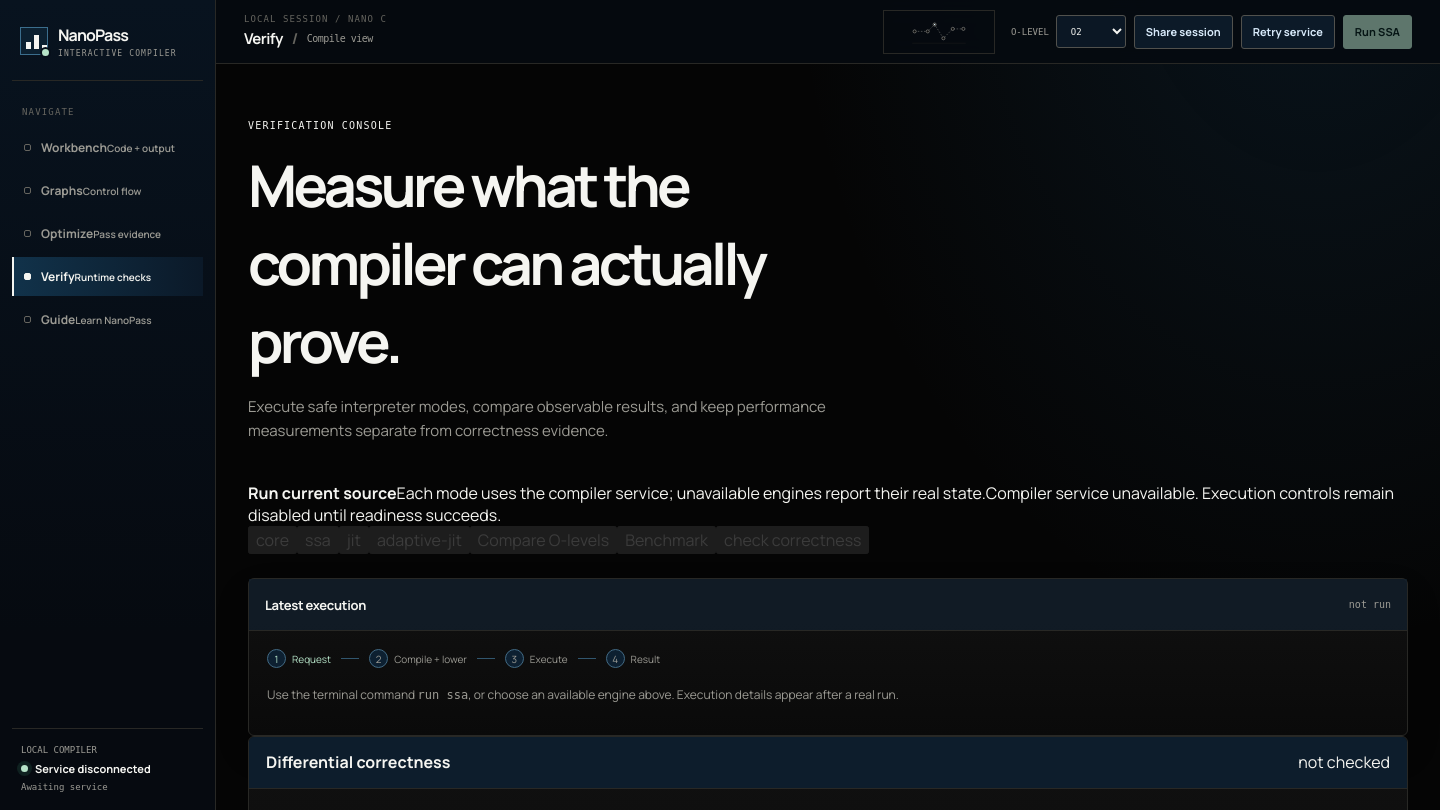
compiler lab › recovers capabilities through Retry service without losing the current view
Click the button "Retry service": (1288, 32) [1241, 14, 1335, 48]
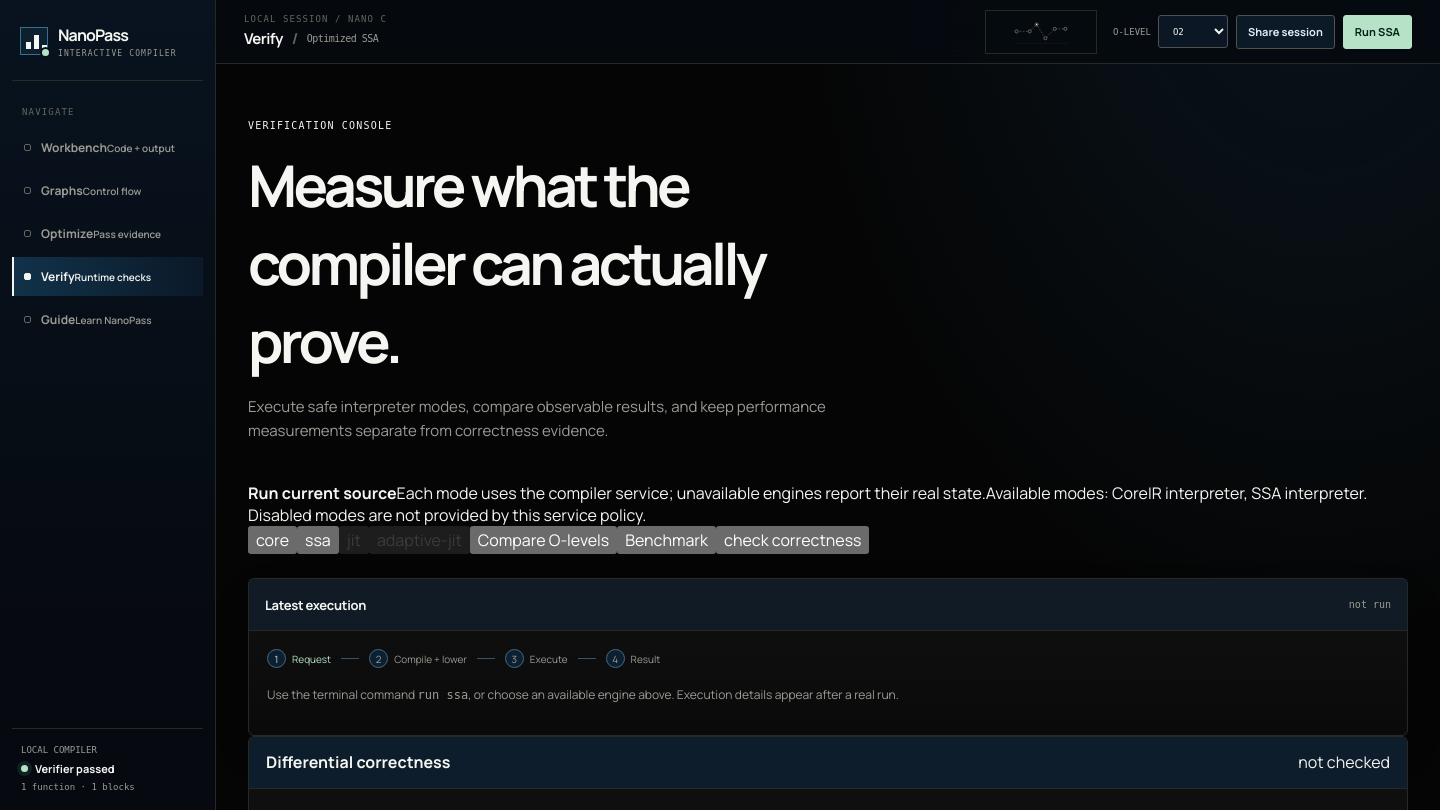
Check: the button "ssa" is enabled, box [297, 526, 339, 554]
